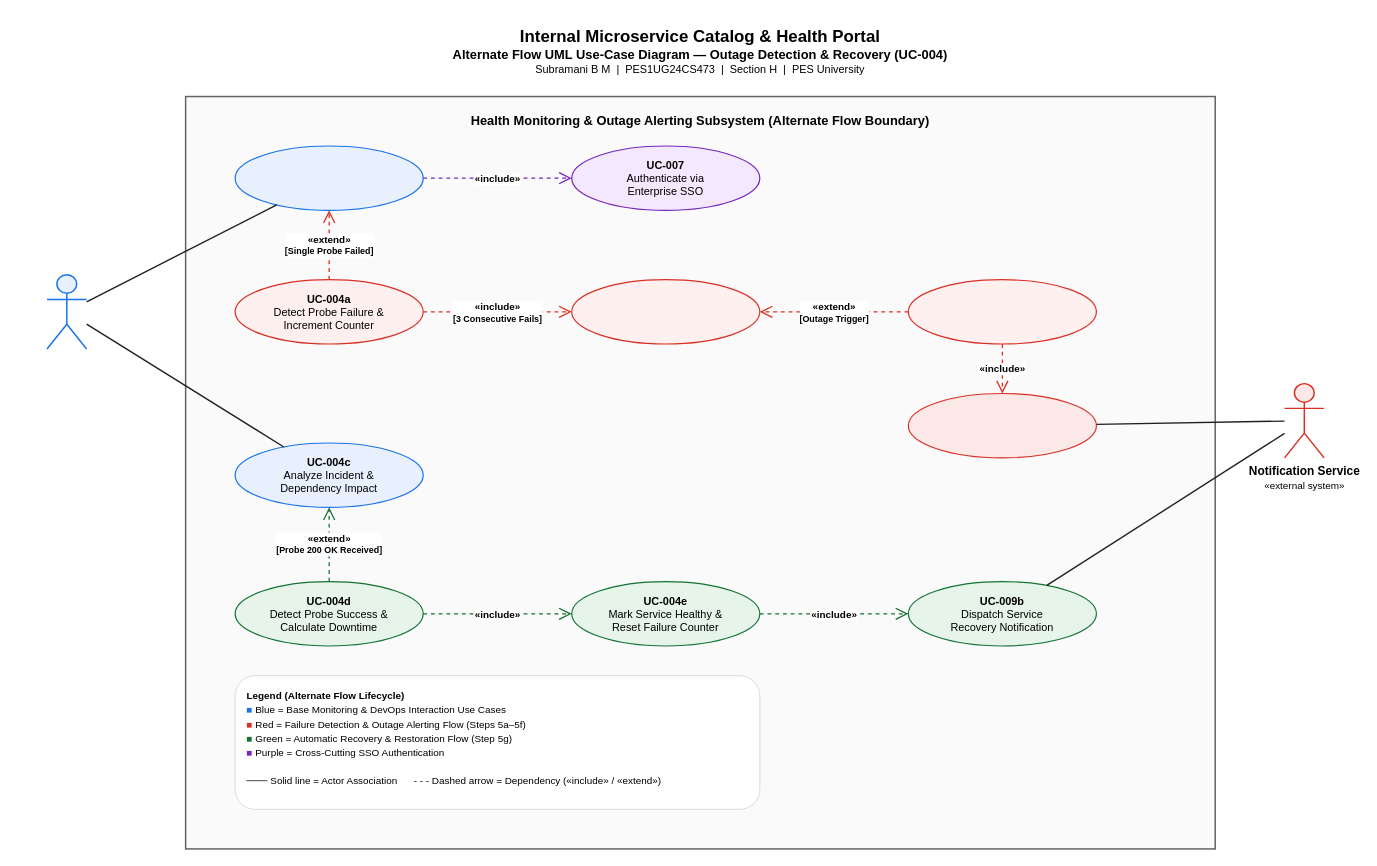
This 1377x866 diagram has some shape labels left out. Each missing label, with the centre of its shape:
DevOps Engineer: point 66,311
UC-004 Monitor Microservice Health (Base Flow): point 328,177
UC-004b Mark Service Down & Log Outage Incident: point 665,311
UC-009 Dispatch Real-Time Downtime Alert: point 1002,311
UC-009a Deliver Notifications (Email / Slack / Webhook): point 1002,425
